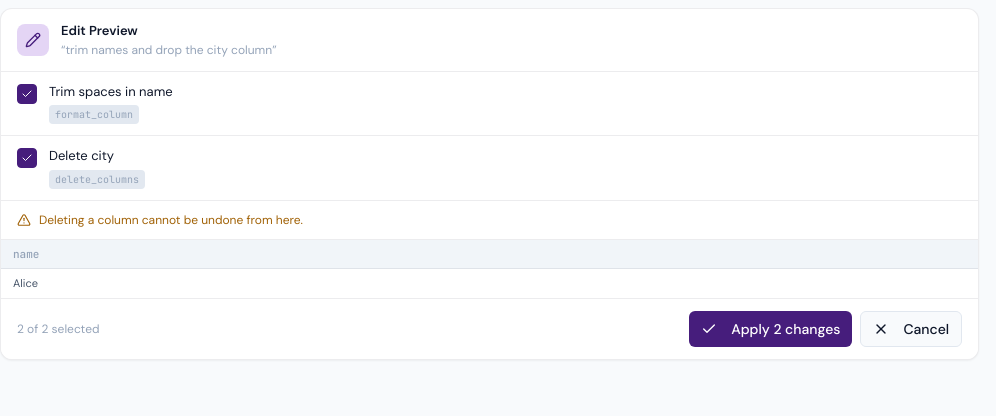
ManipulationPreviewCard › keeps the stale table but says so when the re-preview fails
What coordinates should you click on to do the following:
click the button named "this change" next to "Delete city"
I would click on:
 (27, 158)
Its box is [17,148,37,168].
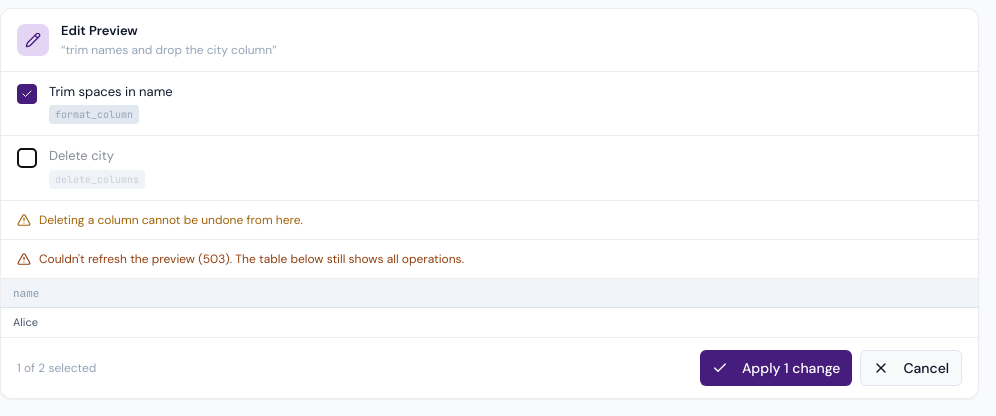
Expected: the button "Apply 1 change" is enabled, [700,350,852,386]
Result: the text "Couldn't refresh the preview" is shown at [39,250,464,266]
